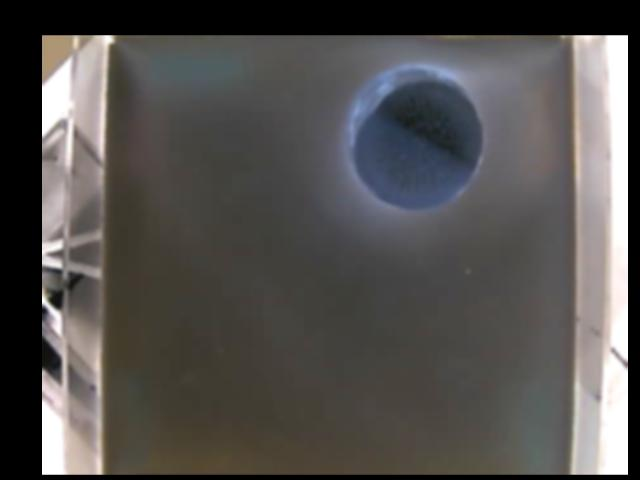Mooli: (347, 63, 482, 208)
